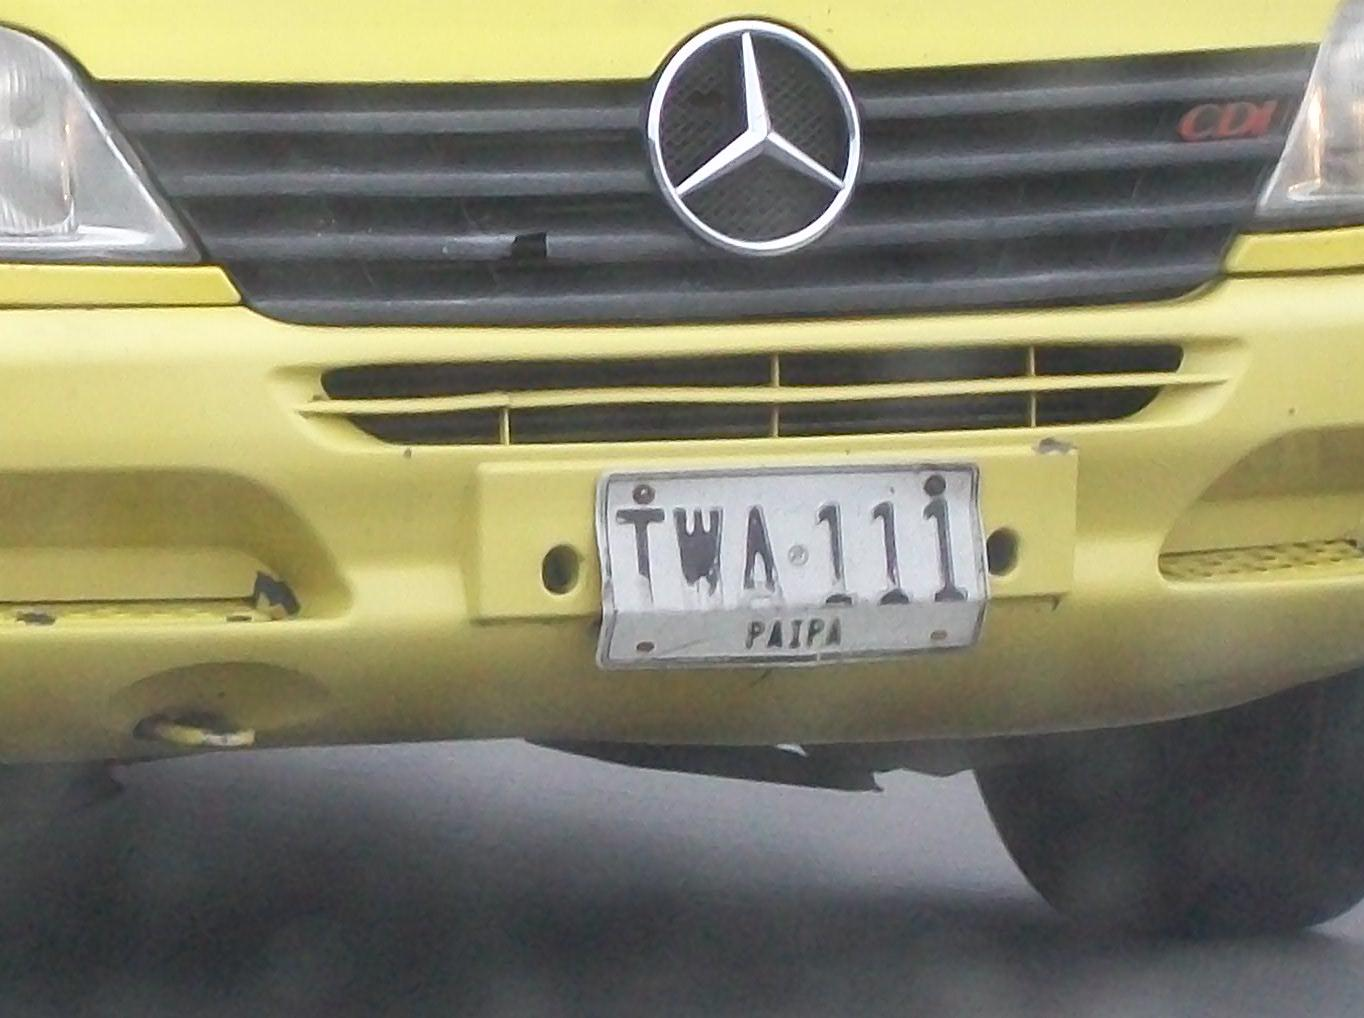placas: (591, 453, 992, 674)
